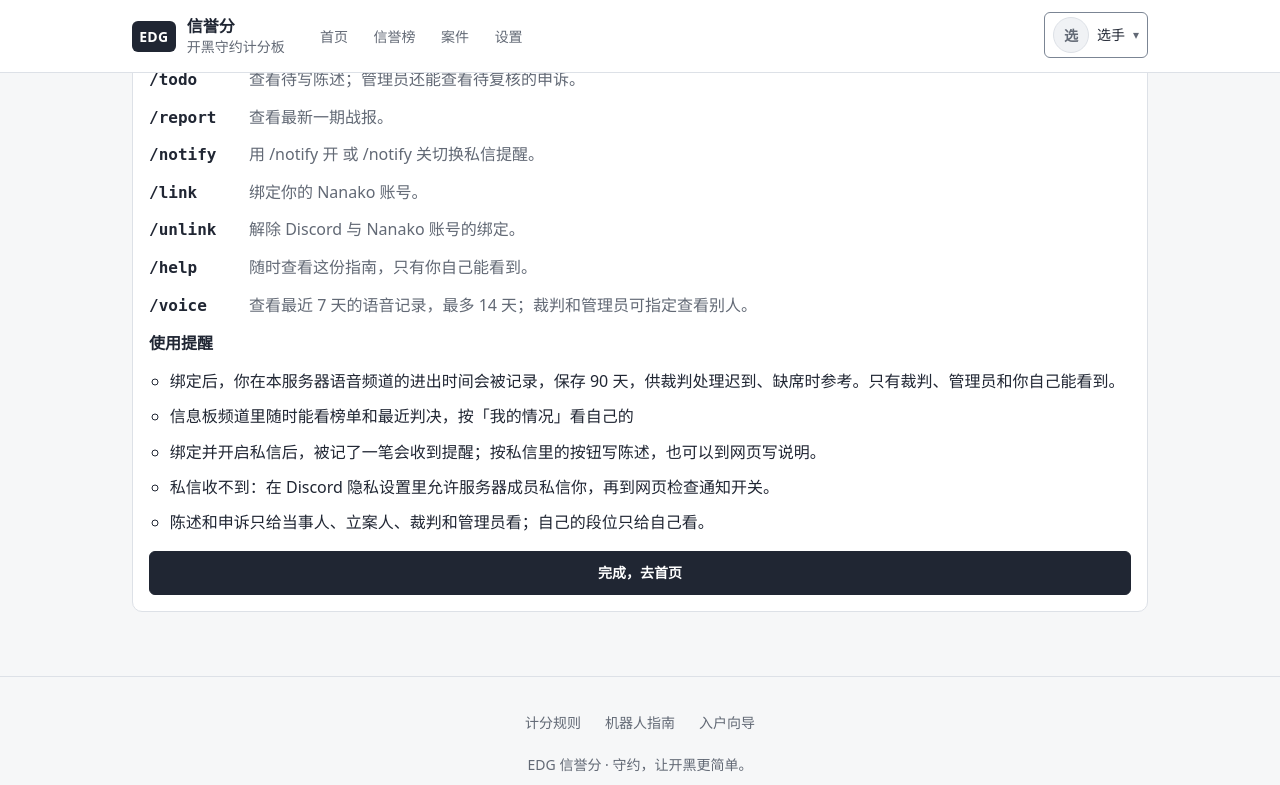
登录回跳 — back from the login page › a session retirement toast waits for the welcome page
The image size is (1280, 785).
(page scrolled)
Expected: the text "约局功能已下线" is not shown
Click the button "完成，去首页".
click(640, 573)  # box [149, 551, 1131, 595]
(page scrolled)
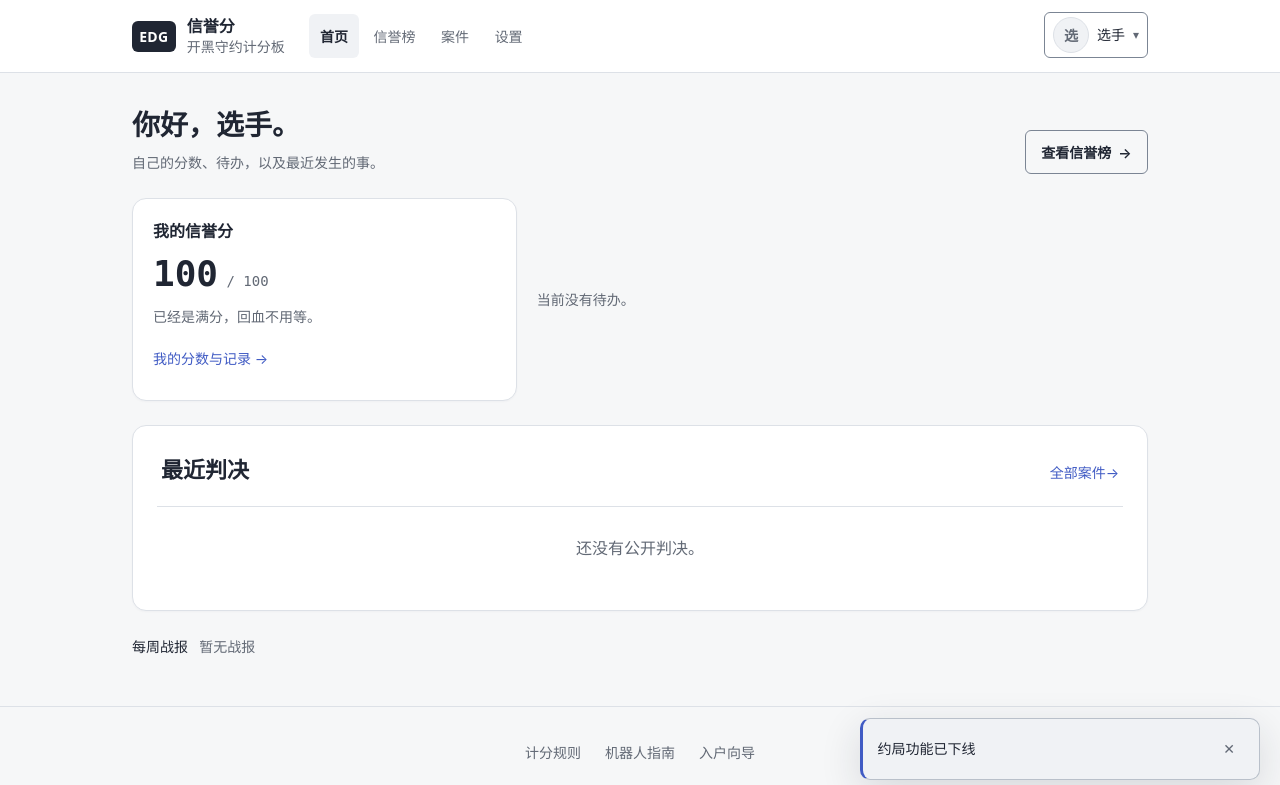
Expected: the text "约局功能已下线" is shown, [877, 739, 975, 758]
